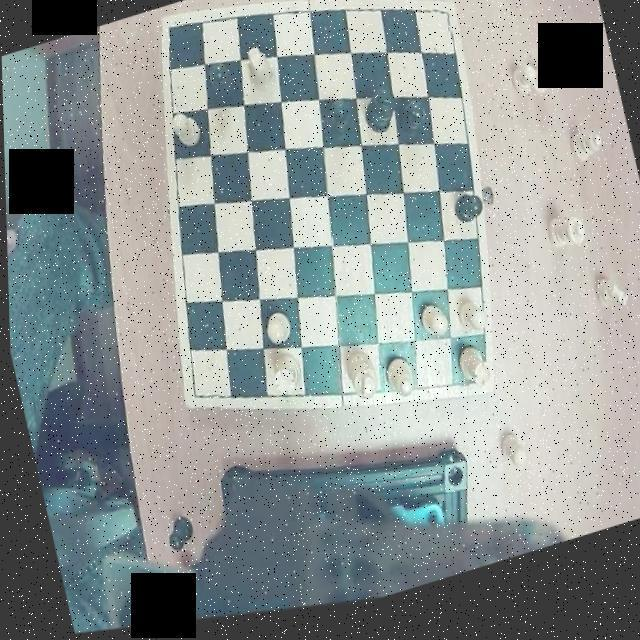chess-table-corners: (180, 382, 222, 426), (453, 376, 493, 418), (156, 18, 194, 58), (426, 9, 460, 49)
